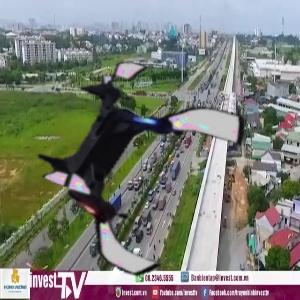drone: (27, 63, 243, 279)
